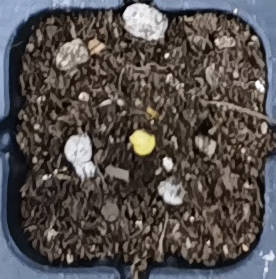pepper seed: (50, 50, 208, 206)
